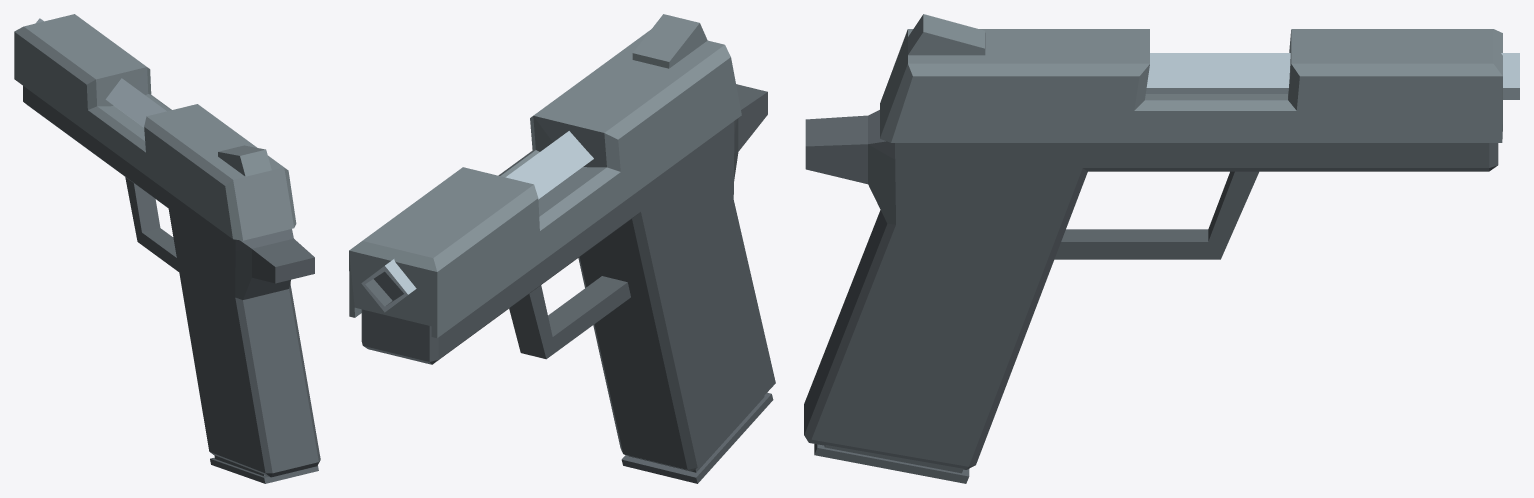
Rendered from pistol-coonan.glb.
The picture shows the model from 3 angles, left to right: view 1: azimuth 30°, elevation 25°; view 2: azimuth 150°, elevation 25°; view 3: azimuth 270°, elevation 25°; orthographic projection. The views are drawn at different scales.
Visible parts, largest first — view 1: body, reload, mag; view 2: body, reload, mag; view 3: body, reload, mag.
Boxes of the visible parts, box(x1,y1,x2,y2) form: body: box(23, 18, 320, 477); reload: box(14, 14, 296, 240); mag: box(210, 455, 318, 483); body: box(361, 84, 775, 471); reload: box(349, 14, 741, 338); mag: box(621, 392, 773, 483); body: box(804, 53, 1519, 469); reload: box(880, 14, 1502, 142); mag: box(814, 444, 969, 483).
Size of the model in its own units: 0.0346 by 0.165 by 0.2418.
